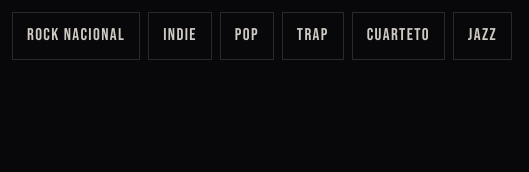
Test: GenrePicker › disables the unselected chips once 5 genres are picked, without disabling the selected ones
What coordinates should you click on to do the following:
click the button "Rock Nacional"
I would click on:
 (76, 36)
Its box is x1=12 y1=12 x2=140 y2=60.
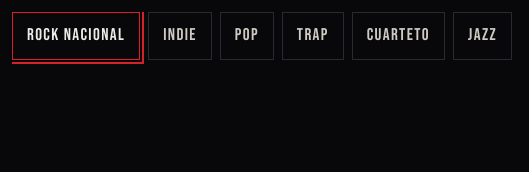
What coordinates should you click on to do the following:
click the button "Indie"
I would click on:
 (180, 36)
Its box is x1=148 y1=12 x2=212 y2=60.
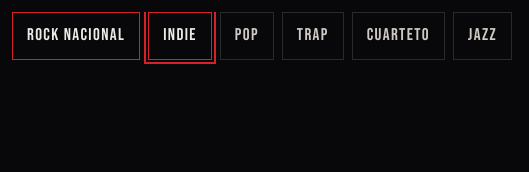
What coordinates should you click on to do the following:
click the button "Pop"
I would click on:
 (247, 36)
Its box is x1=220 y1=12 x2=274 y2=60.
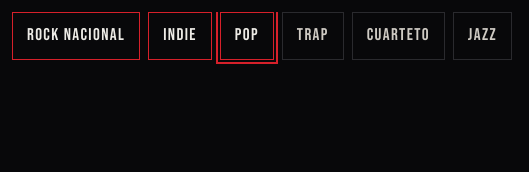
What coordinates should you click on to do the following:
click the button "Trap"
I would click on:
 (313, 36)
Its box is x1=282 y1=12 x2=344 y2=60.
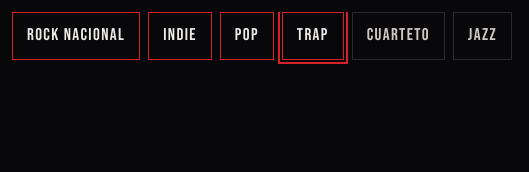
What coordinates should you click on to do the following:
click the button "Cuarteto"
I would click on:
 (398, 36)
Its box is x1=352 y1=12 x2=445 y2=60.
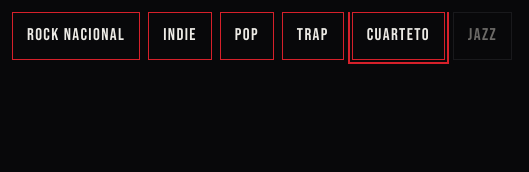
Expected: the button "Rock Nacional" is enabled, x1=12 y1=12 x2=140 y2=60
Now the button "Jazz" is disabled, box x1=453 y1=12 x2=512 y2=60
